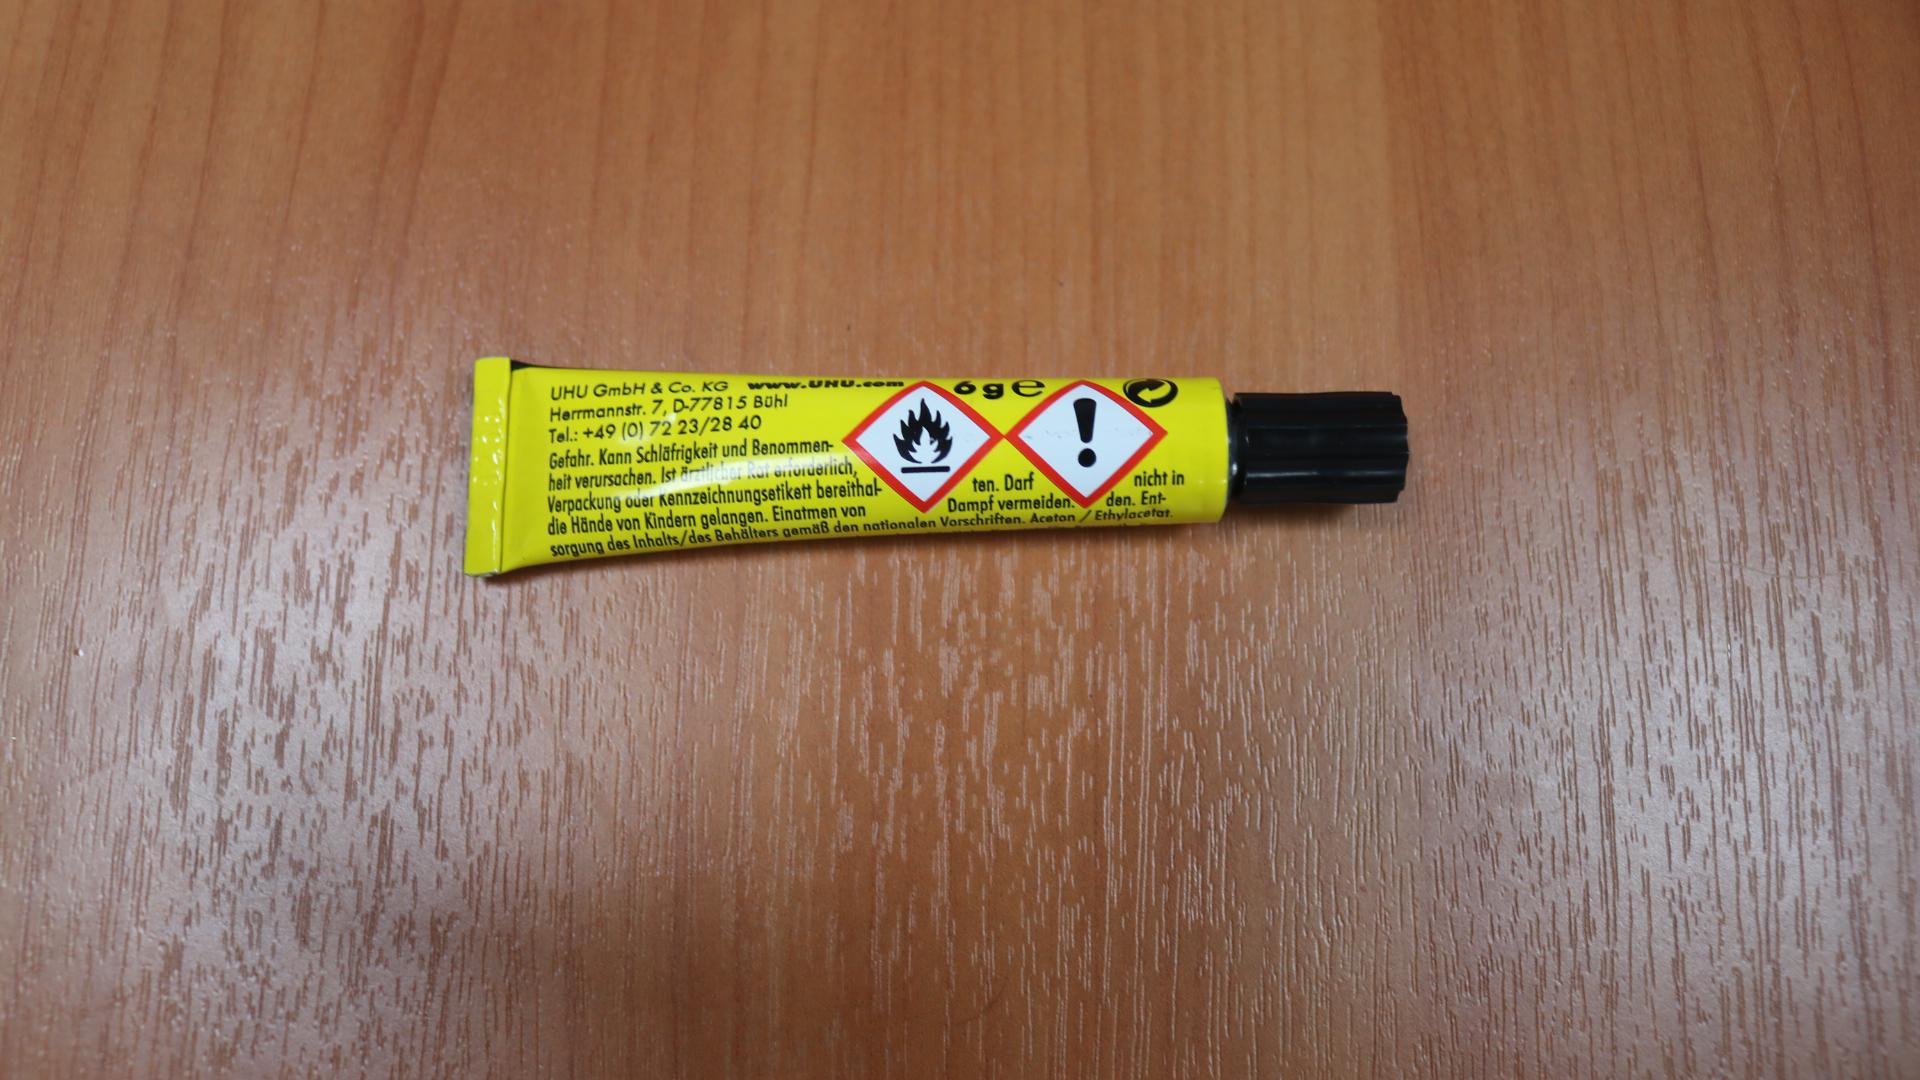Head: (1302, 428, 1328, 458)
Tail: (479, 453, 498, 481)
Tube: (464, 352, 1406, 580)
